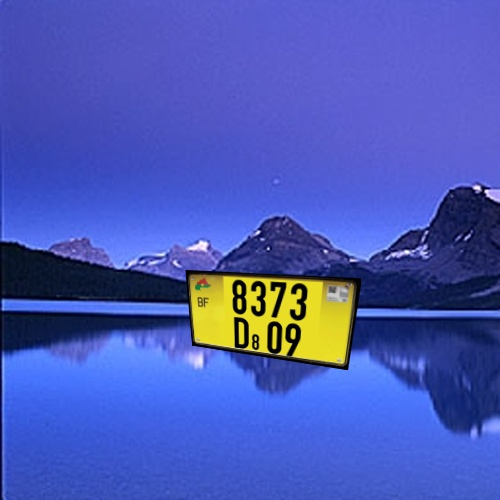plate: (179, 255, 370, 376)
